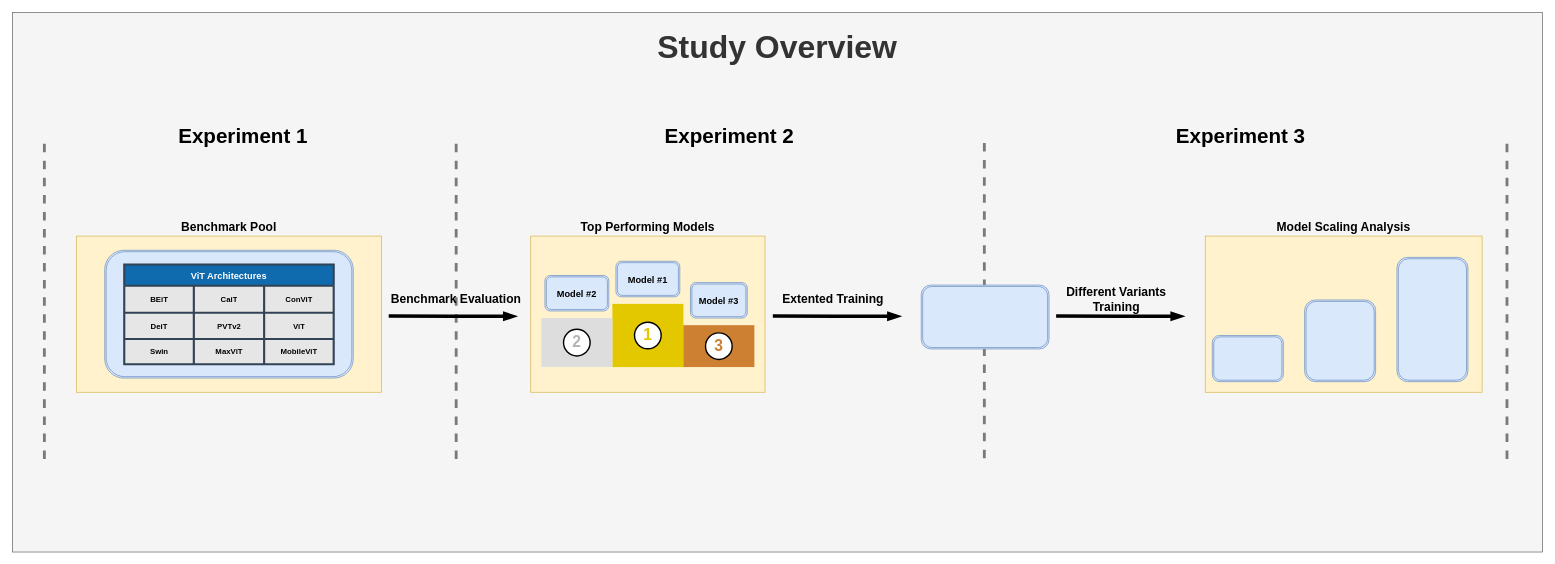
The diagram is 1555 pixels wide and 564 high, and some of its shapes have lost their labels. Here are the shapes that lost their labels. From the top down, the centre of each, then its label:
(x=985, y=316): Selected Architecture
(x=1432, y=319): Best Model - Large
(x=1247, y=358): Best Model - Small
(x=1340, y=340): Best Model - Base
